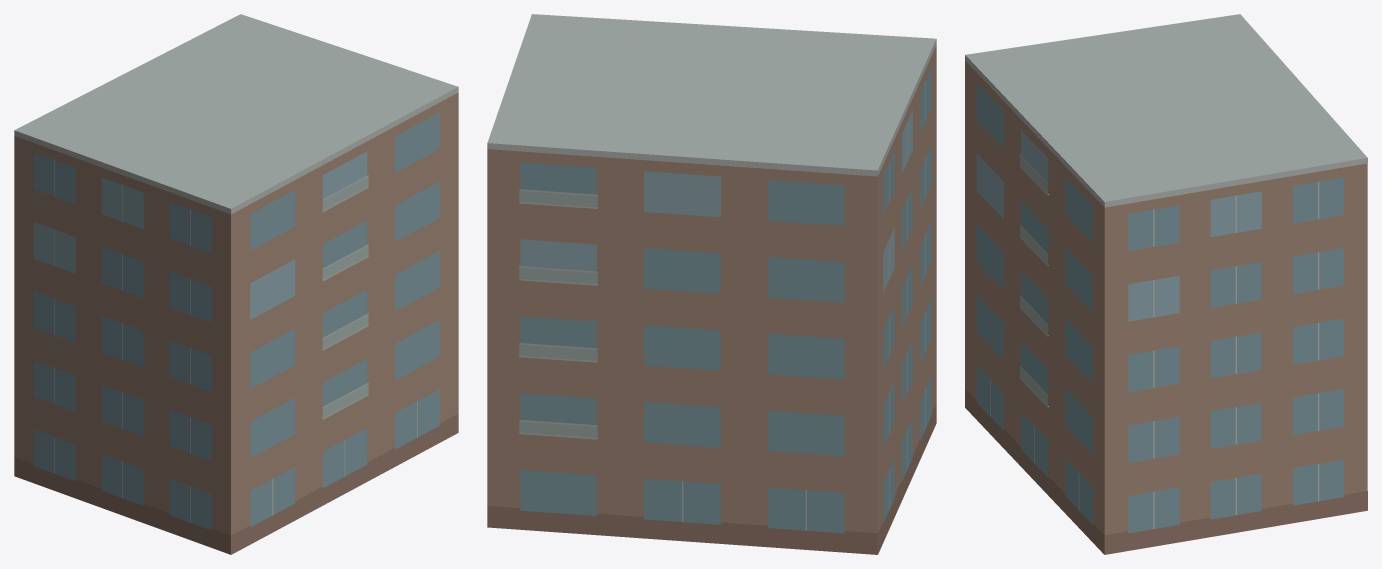
File: survey-upis-32944356.glb
The picture shows the model from 3 angles, left to right: view 1: azimuth 30°, elevation 25°; view 2: azimuth 150°, elevation 25°; view 3: azimuth 270°, elevation 25°; orthographic projection. The views are drawn at different scales.
Visible parts, largest first — view 1: survey-upis-32944356.tmp; view 2: survey-upis-32944356.tmp; view 3: survey-upis-32944356.tmp.
Part boxes in pixels (x1,y1,x2,y2): survey-upis-32944356.tmp: (14, 14, 458, 554); survey-upis-32944356.tmp: (487, 14, 936, 554); survey-upis-32944356.tmp: (965, 14, 1367, 554).
Bounding box in the file's own units: 17.73 × 15.5 × 16.04.
